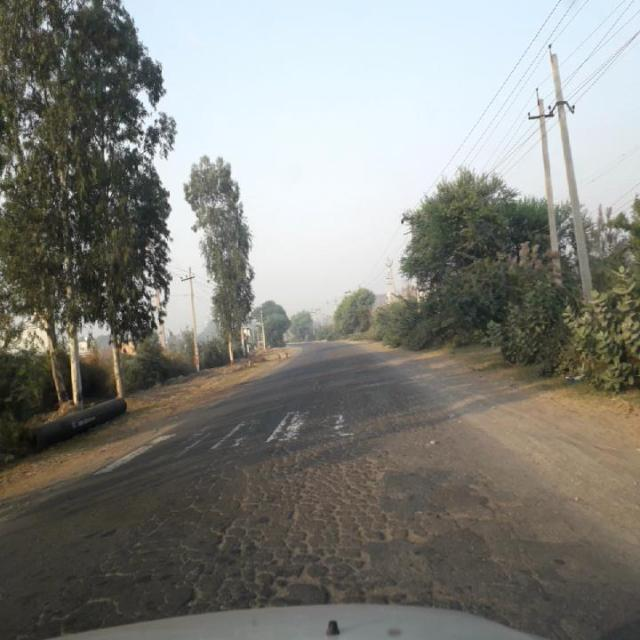crack: (83, 450, 575, 600)
